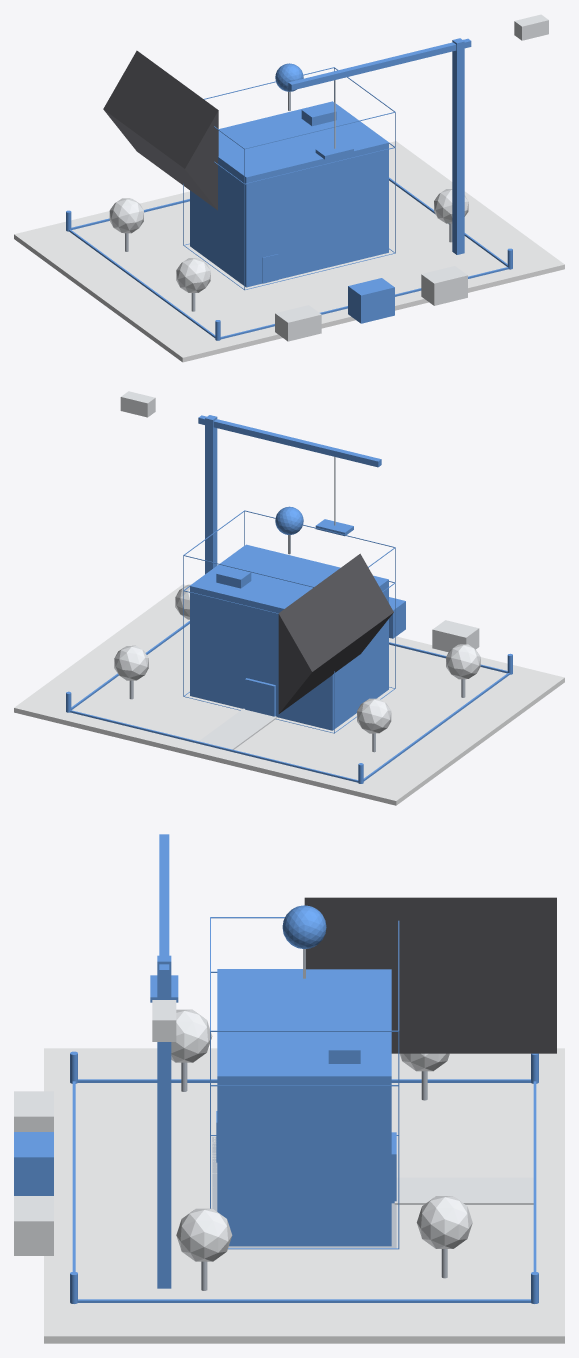
The model's file is gebouw-lagen.glb.
The picture shows the model from 3 angles, top to bottom: view 1: azimuth 30°, elevation 25°; view 2: azimuth 150°, elevation 25°; view 3: azimuth 270°, elevation 25°; orthographic projection. The views are drawn at different scales.
Parts seen in each view (by area): view 1: layer_landschap__maaiveld, layer_bouwfysica__schil, layer_architectuur__dak, layer_bouwen__kraanmast, layer_aanbesteden__inschrijving1, layer_bouwen__kraanarm, layer_aanbesteden__inschrijving2, layer_aanbesteden__inschrijving0, layer_landschap__kroon0, layer_landschap__kroon3, layer_bouwen__contragewicht, layer_landschap__kroon1 (+5 smaller); view 2: layer_landschap__maaiveld, layer_bouwfysica__schil, layer_architectuur__dak, layer_bouwen__kraanmast, layer_bouwen__kraanarm, layer_landschap__pad, layer_aanbesteden__inschrijving0, layer_architectuur__entree, layer_landschap__kroon0, layer_landschap__kroon3, layer_landschap__kroon2, layer_vergunnen__grens_x12 (+5 smaller); view 3: layer_landschap__maaiveld, layer_bouwfysica__schil, layer_architectuur__dak, layer_bouwen__kraanmast, layer_landschap__pad, layer_aanbesteden__inschrijving1, layer_aanbesteden__inschrijving2, layer_landschap__kroon1, layer_landschap__kroon2, layer_vergunnen__grens_y13, layer_landschap__kroon3, layer_aanbesteden__inschrijving0 (+9 smaller).
Boxes of the visible parts, x1,y1,x2,y2 form: layer_landschap__maaiveld: (14, 141, 564, 362); layer_bouwfysica__schil: (190, 101, 388, 287); layer_architectuur__dak: (103, 50, 218, 210); layer_bouwen__kraanmast: (452, 38, 464, 254); layer_aanbesteden__inschrijving1: (348, 278, 394, 323); layer_bouwen__kraanarm: (288, 38, 471, 90); layer_aanbesteden__inschrijving2: (421, 266, 467, 305); layer_aanbesteden__inschrijving0: (275, 305, 321, 341); layer_landschap__kroon0: (109, 198, 143, 233); layer_landschap__kroon3: (176, 258, 210, 292); layer_bouwen__contragewicht: (514, 14, 548, 40); layer_landschap__kroon1: (434, 189, 468, 223); layer_landschap__maaiveld: (14, 584, 564, 805); layer_bouwfysica__schil: (190, 544, 388, 730); layer_architectuur__dak: (278, 553, 393, 713); layer_bouwen__kraanmast: (205, 415, 217, 574); layer_bouwen__kraanarm: (198, 415, 381, 467); layer_landschap__pad: (199, 708, 276, 749); layer_aanbesteden__inschrijving0: (432, 620, 479, 652); layer_architectuur__entree: (245, 678, 275, 716); layer_landschap__kroon0: (357, 698, 391, 733); layer_landschap__kroon3: (446, 644, 480, 679); layer_landschap__kroon2: (114, 645, 148, 680); layer_vergunnen__grens_x12: (70, 710, 358, 782); layer_landschap__maaiveld: (44, 1048, 564, 1343); layer_bouwfysica__schil: (217, 969, 391, 1246); layer_architectuur__dak: (304, 897, 556, 1053); layer_bouwen__kraanmast: (157, 955, 171, 1288); layer_landschap__pad: (394, 1177, 533, 1204); layer_aanbesteden__inschrijving1: (14, 1132, 53, 1195); layer_aanbesteden__inschrijving2: (14, 1196, 53, 1255); layer_landschap__kroon1: (176, 1208, 232, 1261); layer_landschap__kroon2: (416, 1196, 472, 1248); layer_vergunnen__grens_y13: (78, 1299, 531, 1302); layer_landschap__kroon3: (171, 1009, 212, 1062); layer_aanbesteden__inschrijving0: (14, 1091, 53, 1131).
Size of the model in its own units: 35.7 by 19 by 27.5.
